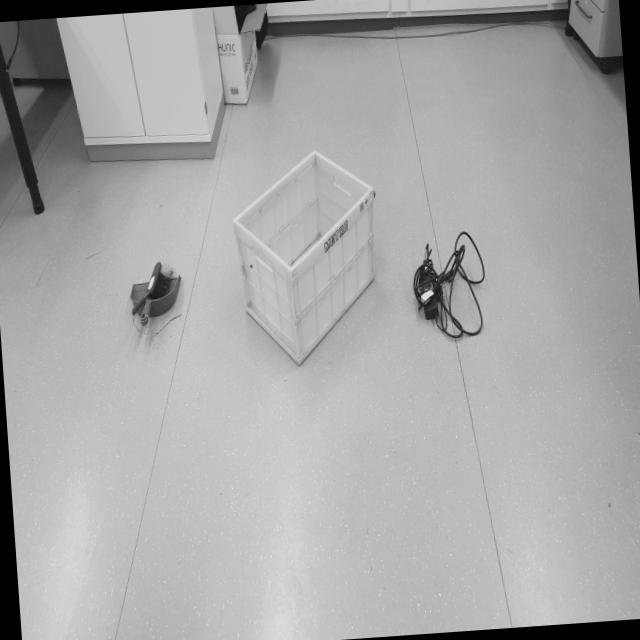box: (217, 132, 400, 375)
